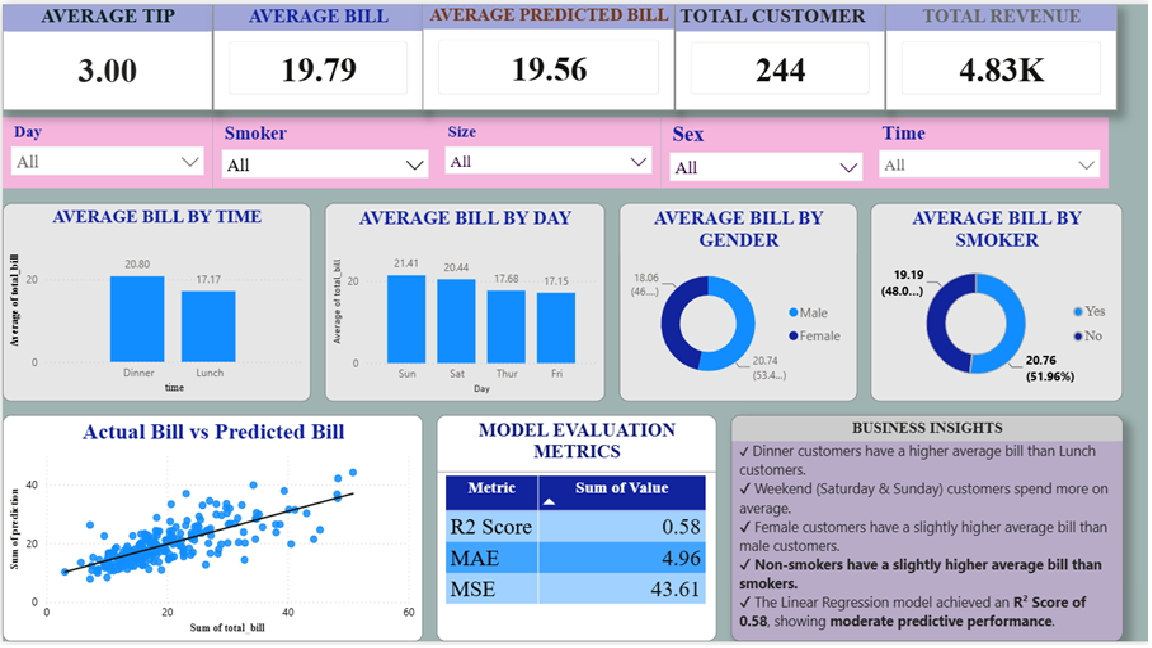

The page's visual inventory and layout, read from the dashboard file:
{"tool":"powerbi","page":{"name":"Page 10","canvas":[1314,720],"ordinal":9},"visuals":[{"type":"donutChart","title":"AVERAGE BILL BY SMOKER","fields":{"Category":["tips.smoker"],"Y":["Avg(tips.total_bill)"]},"box":[992,224,288,224],"z":0},{"type":"clusteredColumnChart","title":"AVERAGE BILL BY TIME","fields":{"Category":["tips.time"],"Y":["Avg(tips.total_bill)"]},"box":[0,224,352,224],"z":1},{"type":"donutChart","title":"AVERAGE BILL BY GENDER","fields":{"Category":["tips.sex"],"Y":["Avg(tips.total_bill)"]},"box":[704,224,272,224],"z":2},{"type":"clusteredColumnChart","title":"AVERAGE BILL BY DAY       ","fields":{"Category":["tips.day"],"Y":["Avg(tips.total_bill)"]},"box":[368,224,320,224],"z":3},{"type":"slicer","fields":{"Values":["tips.smoker"]},"box":[240,128,256,80],"z":4},{"type":"slicer","fields":{"Values":["tips.day"]},"box":[0,128,240,80],"z":5},{"type":"slicer","fields":{"Values":["tips.sex"]},"box":[752,128,240,80],"z":6},{"type":"slicer","fields":{"Values":["tips.size"]},"box":[496,128,256,80],"z":7},{"type":"slicer","fields":{"Values":["tips.time"]},"box":[992,128,272,80],"z":8},{"type":"scatterChart","title":"Actual Bill vs Predicted Bill","fields":{"X":["Sum(tips.total_bill)"],"Y":["Sum(all_predictions.prediction)"],"Category":["tips.Index"]},"box":[0,464,480,256],"z":9},{"type":"tableEx","title":"MODEL EVALUATION METRICS","fields":{"Values":["Model_Metrics.Metric","Sum(Model_Metrics.Value)"]},"box":[496,464,320,256],"z":10},{"type":"card","title":"AVERAGE TIP","fields":{"Values":["Model_Metrics.Average Tip"]},"box":[0,0,240,120],"z":11},{"type":"cardVisual","title":"AVERAGE BILL","fields":{"Data":["Model_Metrics.Average Bill"]},"box":[240,0,240,120],"z":12},{"type":"cardVisual","title":"AVERAGE PREDICTED BILL","fields":{"Data":["Model_Metrics.Avearge Predicted Bill"]},"box":[480,0,288,120],"z":13},{"type":"cardVisual","title":"TOTAL CUSTOMER","fields":{"Data":["Model_Metrics.Total Customers"]},"box":[768,0,240,120],"z":14},{"type":"cardVisual","title":"TOTAL REVENUE","fields":{"Data":["Model_Metrics.Total Revenue"]},"box":[1008,0,264,120],"z":15},{"type":"textbox","title":"BUSINESS INSIGHTS","box":[832,464,448,256],"z":16}]}

Visuals, with their boxes in screenshot pixels (x1, y1, x2, y2), scaled from the page's 1314x720 canvas onto the 1152x648 screenshot:
"AVERAGE BILL BY SMOKER" donutChart: (x1=870, y1=202, x2=1122, y2=403)
"AVERAGE BILL BY TIME" clusteredColumnChart: (x1=0, y1=202, x2=309, y2=403)
"AVERAGE BILL BY GENDER" donutChart: (x1=617, y1=202, x2=856, y2=403)
"AVERAGE BILL BY DAY       " clusteredColumnChart: (x1=323, y1=202, x2=603, y2=403)
slicer - tips.smoker: (x1=210, y1=115, x2=435, y2=187)
slicer - tips.day: (x1=0, y1=115, x2=210, y2=187)
slicer - tips.sex: (x1=659, y1=115, x2=870, y2=187)
slicer - tips.size: (x1=435, y1=115, x2=659, y2=187)
slicer - tips.time: (x1=870, y1=115, x2=1108, y2=187)
"Actual Bill vs Predicted Bill" scatterChart: (x1=0, y1=418, x2=421, y2=647)
"MODEL EVALUATION METRICS" tableEx: (x1=435, y1=418, x2=715, y2=647)
"AVERAGE TIP" card: (x1=0, y1=0, x2=210, y2=108)
"AVERAGE BILL" cardVisual: (x1=210, y1=0, x2=421, y2=108)
"AVERAGE PREDICTED BILL" cardVisual: (x1=421, y1=0, x2=673, y2=108)
"TOTAL CUSTOMER" cardVisual: (x1=673, y1=0, x2=884, y2=108)
"TOTAL REVENUE" cardVisual: (x1=884, y1=0, x2=1115, y2=108)
"BUSINESS INSIGHTS" textbox: (x1=729, y1=418, x2=1122, y2=647)
